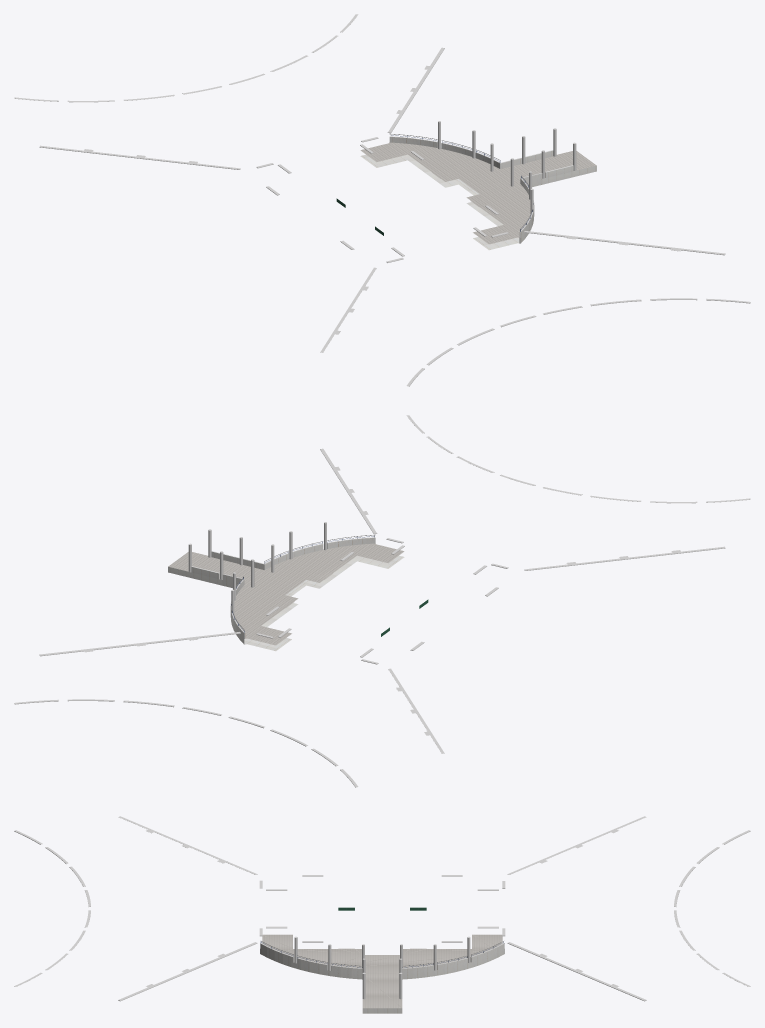
Rendered from PorchP1.dae.
3 views of the same model, one above another, from view 1: azimuth 30°, elevation 25°; view 2: azimuth 150°, elevation 25°; view 3: azimuth 270°, elevation 25° (orthographic). The views are drawn at different scales.
Parts seen in each view (by area): view 1: PorchP1-Pivot; view 2: PorchP1-Pivot; view 3: PorchP1-Pivot.
Boxes of the visible parts, <box> form: PorchP1-Pivot: <box>14,14,750,386</box>; PorchP1-Pivot: <box>14,415,750,787</box>; PorchP1-Pivot: <box>14,816,750,1013</box>.
Size of the model in its own units: 5196 by 8737 by 400.
Materials: 5 (5 with a texture image).
